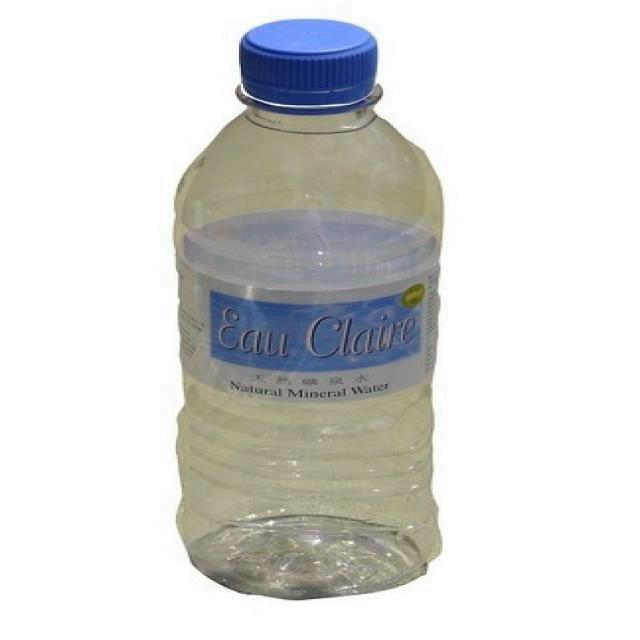bottle: (172, 18, 444, 602)
